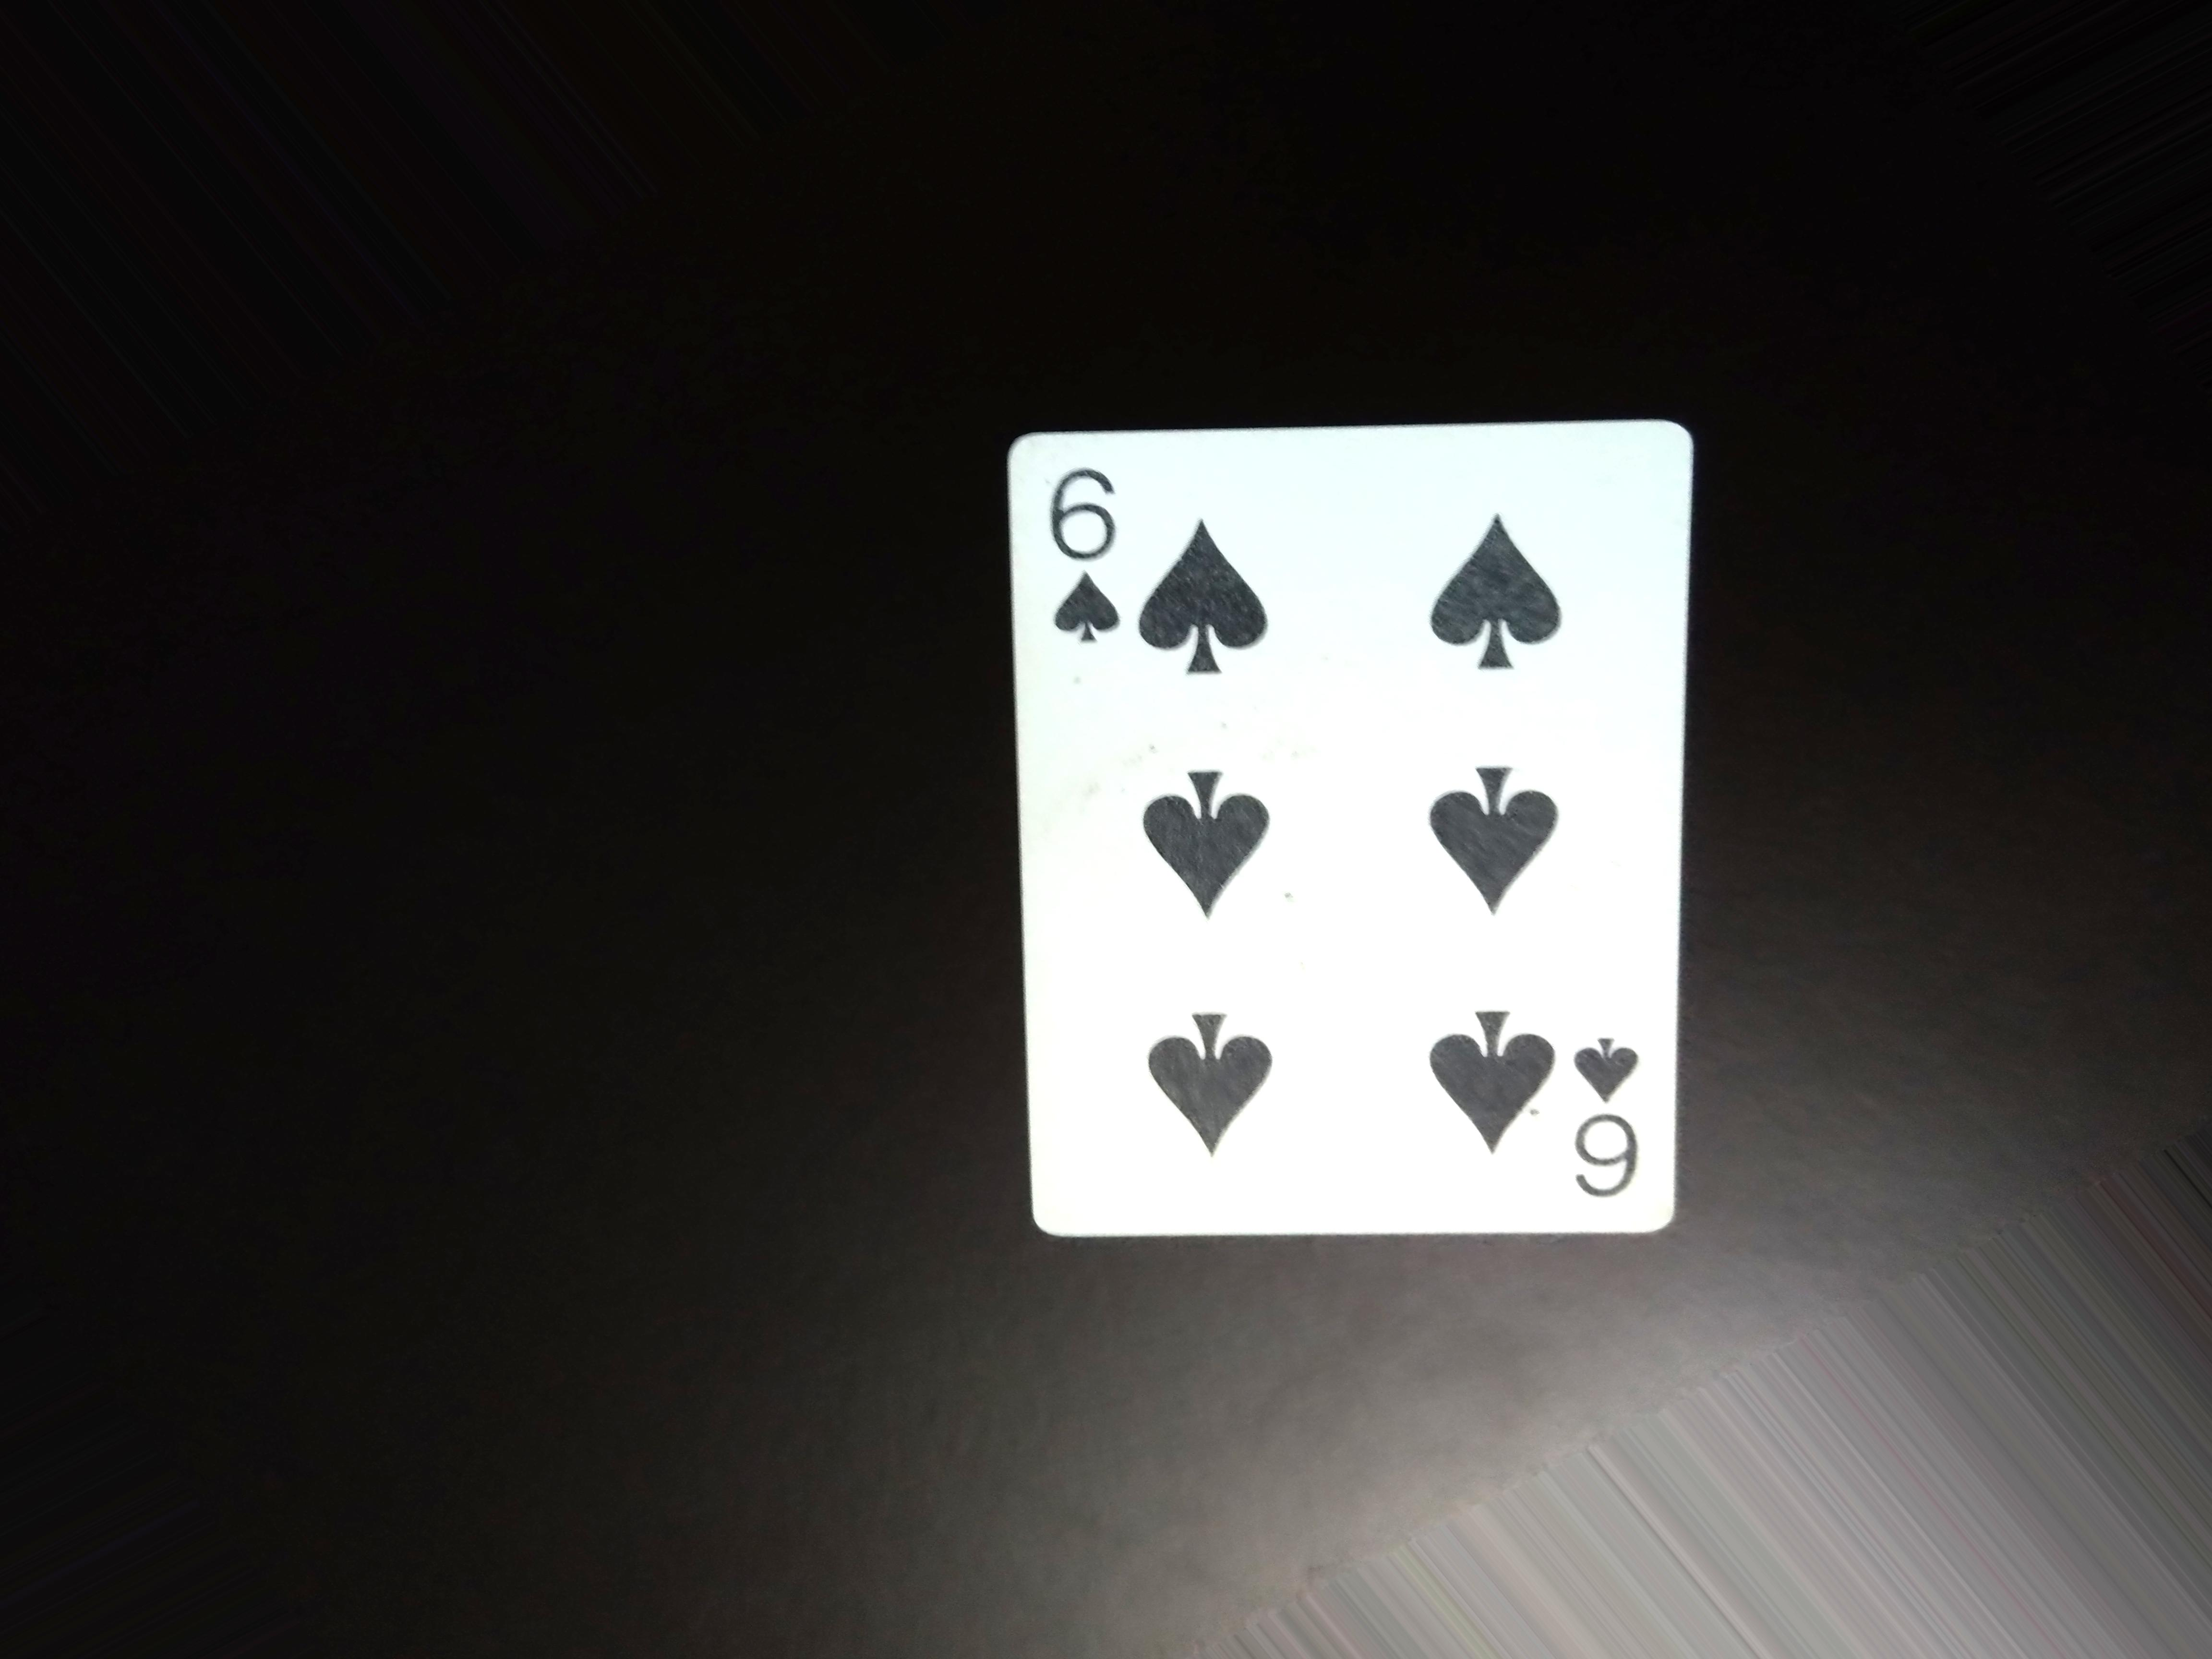6S: (1049, 467, 1134, 648)
